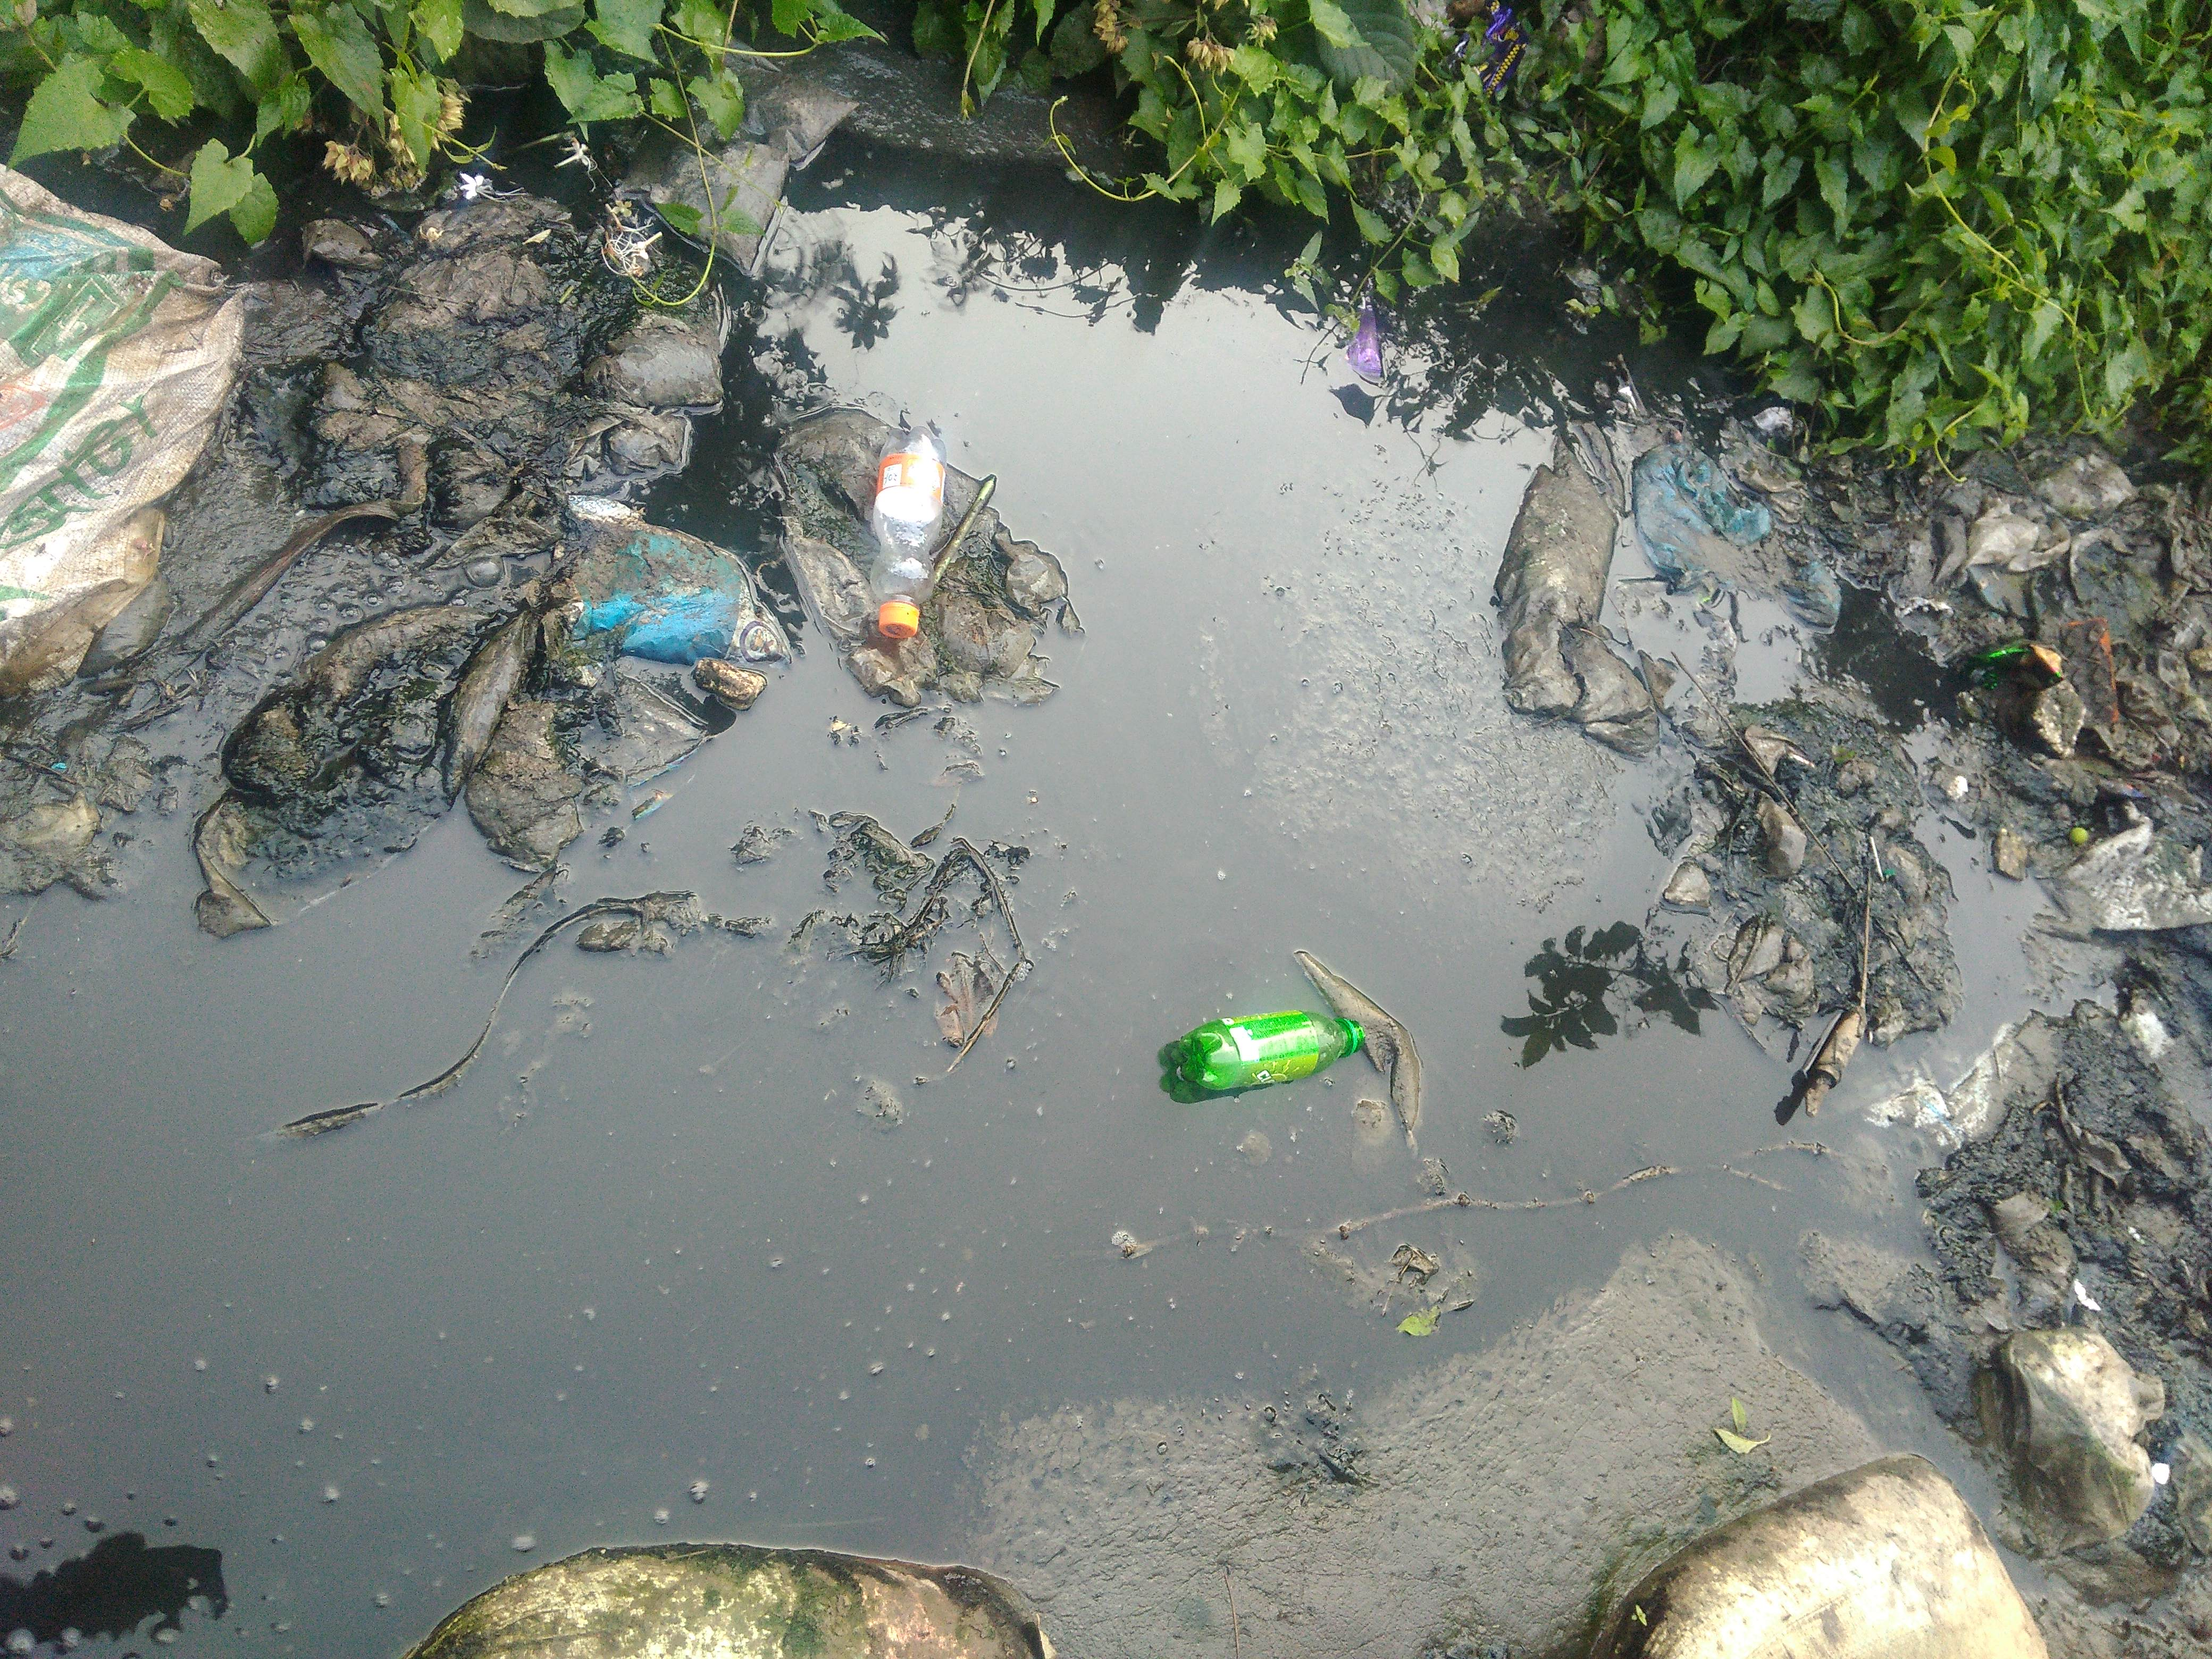Plastic Bottle: (1172, 1011, 1364, 1091), (869, 429, 942, 638)
